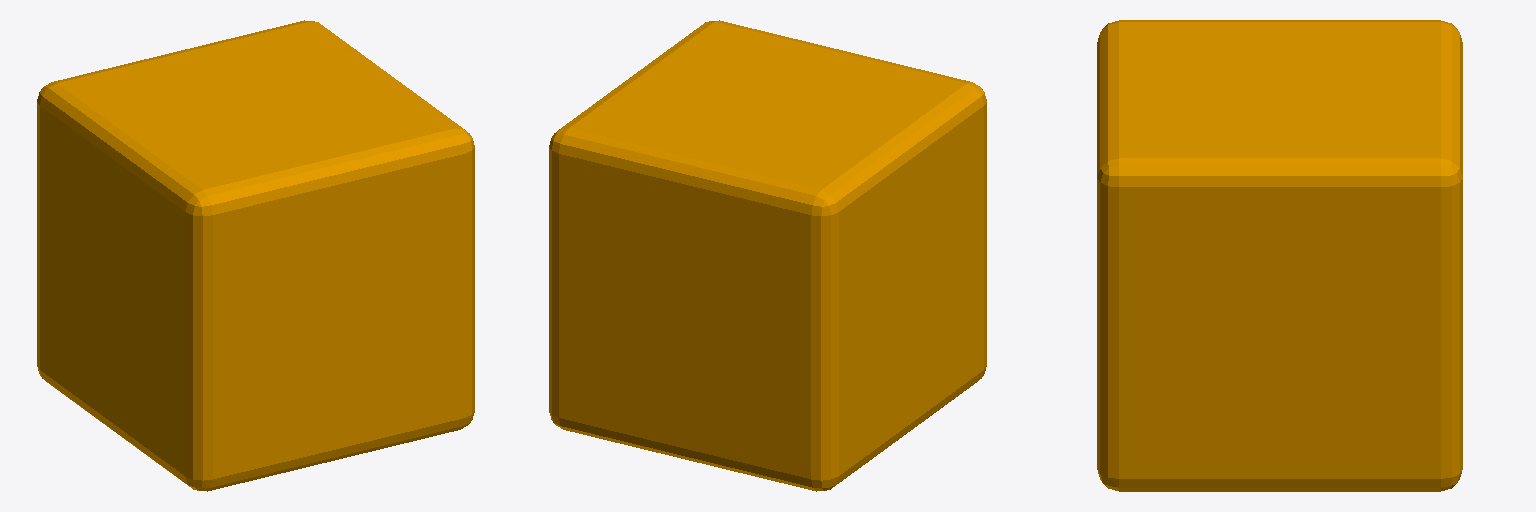
URDF robot description (wooden_block_2_5):
<?xml version="1.0" ?>
<robot name="wooden_block_2_5">
  <link name="base_link">
    <inertial>
      <origin xyz="0 0 0.0125" rpy="0 0 0"/>
      <mass value="0.0065"/>
      <inertia ixx="6.77083333e-07" ixy="0" ixz="0" iyy="6.77083333e-07" iyz="0" izz="6.77083333e-07"/>
    </inertial>
    <visual name="visual">
      <origin xyz="0 0 0" rpy="0 0 0"/>
      <geometry>
        <mesh filename="meshes/visual.obj" scale="1 1 1"/>
      </geometry>
    </visual>
    <collision name="box">
      <origin xyz="0 0 0" rpy="0 0 0"/>
      <geometry>
        <mesh filename="meshes/collision/box.obj" scale="1 1 1"/>
      </geometry>
    </collision>
  </link>
</robot>

--- What the picture shows (computed from the rendered views, not written in the file) ---
Views: 3 orthographic renders of the robot side by side, from view 1: azimuth 30°, elevation 25°; view 2: azimuth 150°, elevation 25°; view 3: azimuth 270°, elevation 25°.
Model wooden_block_2_5 with 1 links and 0 joints (none), rooted at base_link, posed every joint at zero.
Visible links, largest first — view 1: base_link; view 2: base_link; view 3: base_link.
Boxes of the visible links, x1=… form: base_link: x1=37, y1=20, x2=474, y2=491; base_link: x1=549, y1=20, x2=986, y2=491; base_link: x1=1097, y1=20, x2=1462, y2=491.
Size in the robot's own frame: 0.025 by 0.025 by 0.025 metres.
Meshes: 1 distinct files referenced, 1 mesh visuals loaded (1 OBJ).
